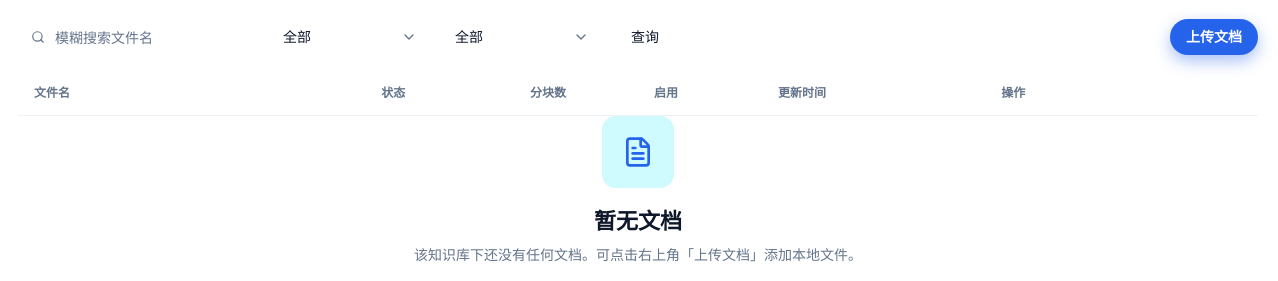
Scenario: DocumentsPage › shows V-03 filter-empty hint
The image size is (1278, 281).
expect the text "暂无文档" is shown: met, box [594,204,682,236]
Type "xyz" into the field with placeholder "模糊搜索文件名" at point(150, 37), box [55,20,245,54]
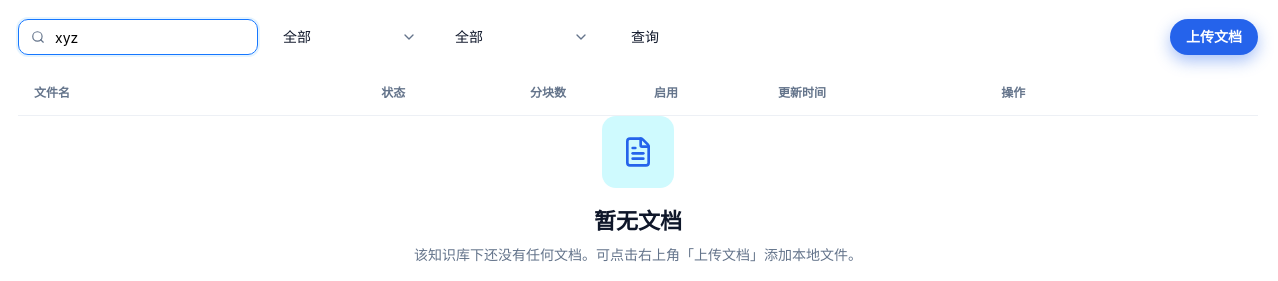
Click the button "查询" at point(645, 37), box [614,19,676,55]
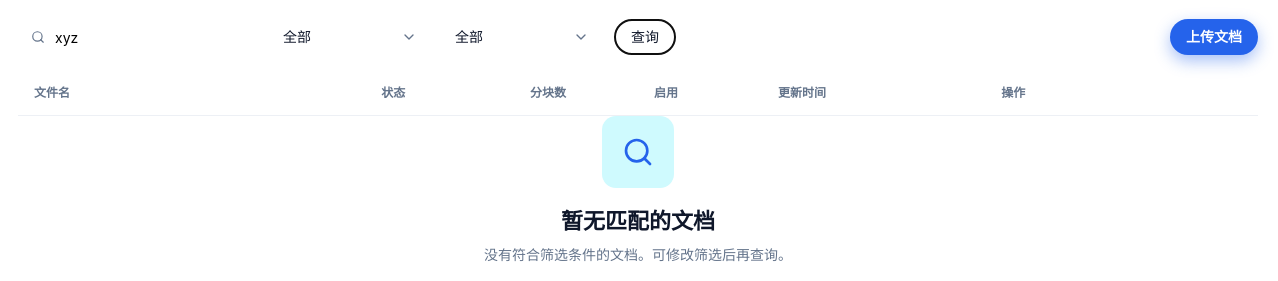
expect the text "暂无匹配的文档" is shown: met, box [561,204,715,236]
expect the text "没有符合筛选条件的文档。可修改筛选后再查询。" is shown: met, box [484,244,792,264]
expect the text "暂无文档" is gone: met
